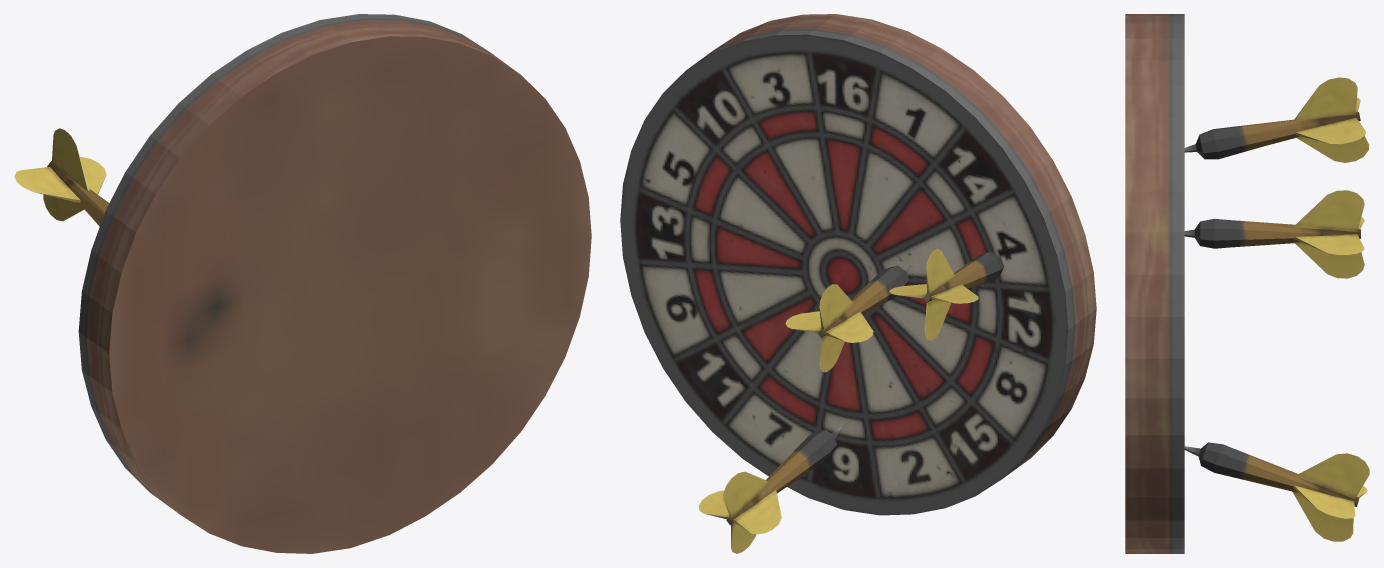
Rendered from P_Dartboard_001_S1_M01.obj.
The picture shows the model from 3 angles, left to right: view 1: azimuth 30°, elevation 25°; view 2: azimuth 150°, elevation 25°; view 3: azimuth 270°, elevation 25°; orthographic projection. The views are drawn at different scales.
Bounding box in the file's own units: 0.6329 × 0.634 × 0.2858.
Materials: 1 (1 with a texture image).
